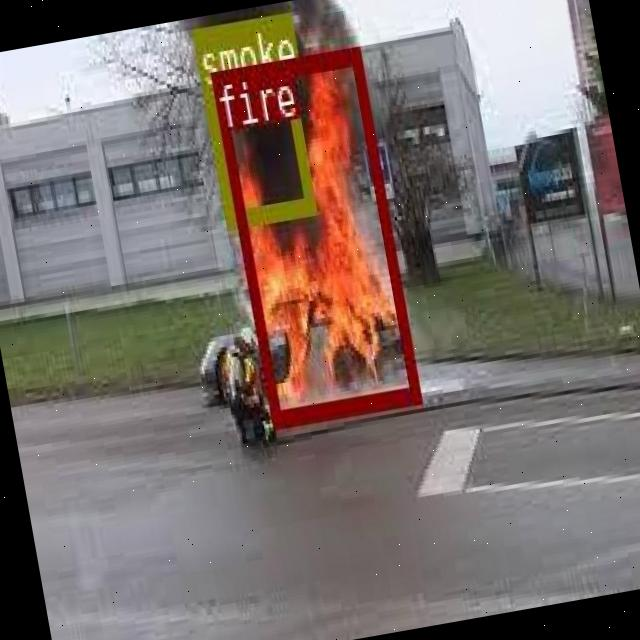fire: (209, 47, 418, 423)
smoke: (192, 11, 314, 224)
